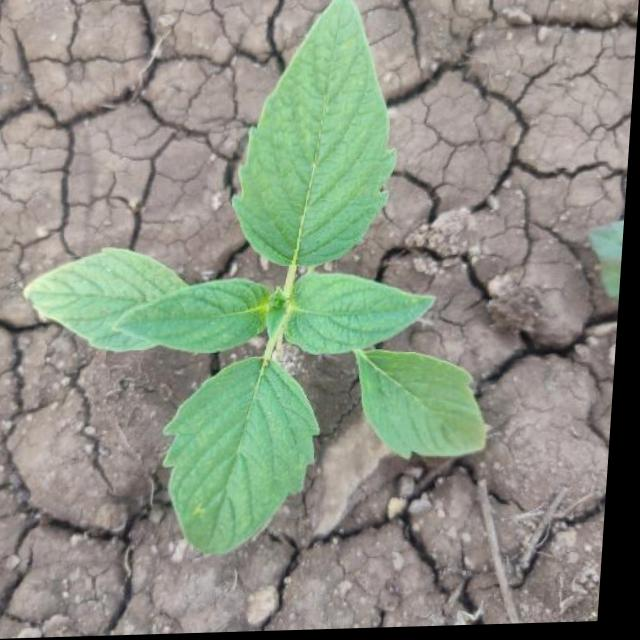crop: (0, 0, 534, 591)
